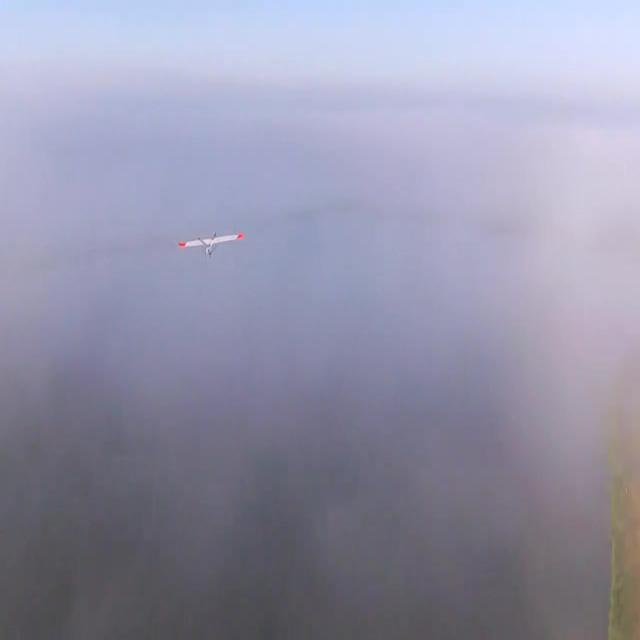iha: (210, 230, 212, 260)
